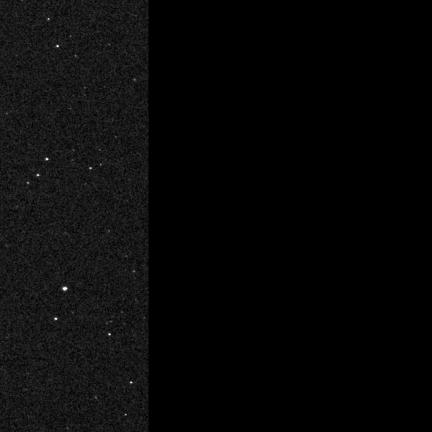blob: (62, 287, 67, 291), (54, 318, 58, 321), (56, 45, 60, 48), (36, 174, 40, 177), (108, 333, 111, 336), (46, 158, 49, 161), (130, 382, 133, 384)
